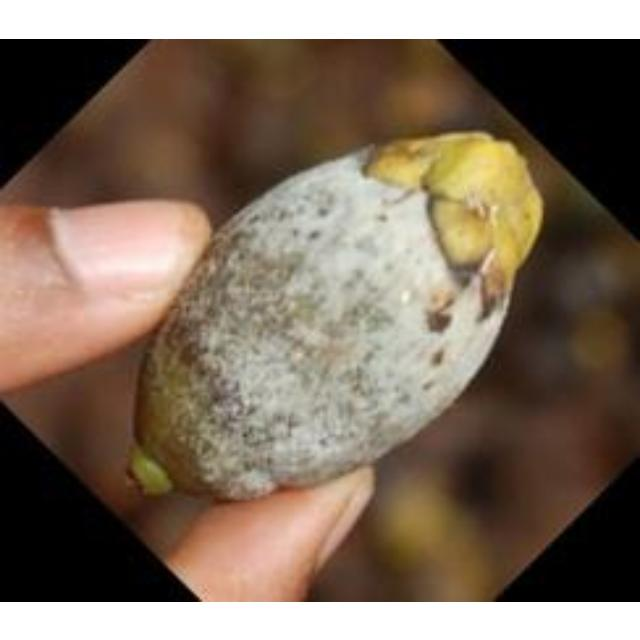damaged: (126, 130, 546, 505)
